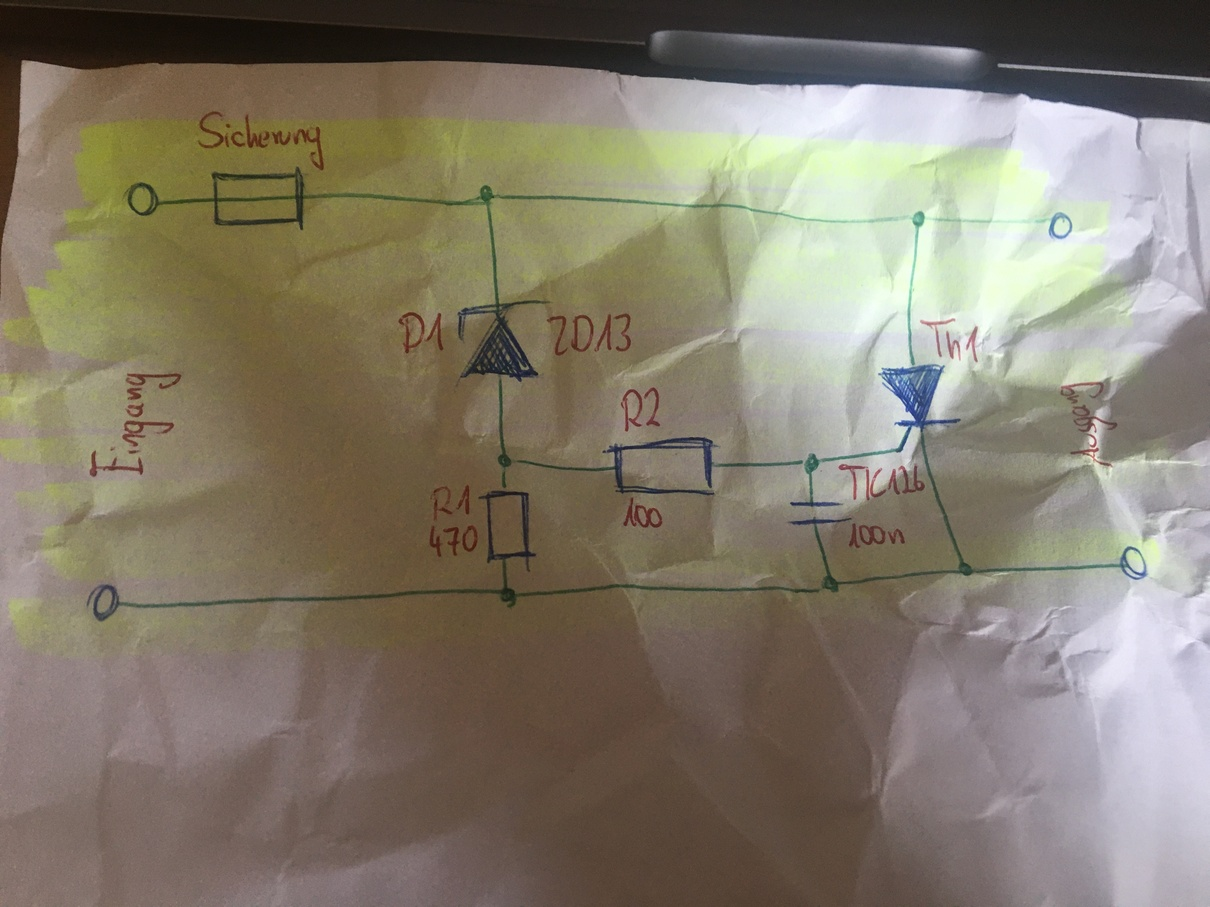capacitor.unpolarized: (786, 493, 855, 532)
diode: (452, 297, 552, 384)
fuse: (208, 166, 310, 236)
junction: (815, 571, 842, 596), (800, 450, 824, 477), (494, 451, 522, 474), (496, 584, 521, 609), (475, 182, 498, 209), (954, 559, 976, 579), (908, 208, 929, 228)
resistor: (602, 435, 719, 501), (478, 485, 537, 572)
terminal: (83, 579, 128, 625), (122, 178, 166, 219), (1115, 541, 1151, 585), (1044, 207, 1077, 241)
text: (85, 368, 185, 477), (195, 109, 328, 171), (1058, 379, 1120, 471), (546, 311, 638, 356), (837, 462, 926, 502), (917, 317, 982, 363), (397, 309, 449, 357), (617, 385, 665, 431), (424, 524, 480, 560), (427, 481, 473, 521), (845, 522, 907, 550), (616, 496, 664, 531)
thyristor: (875, 361, 963, 455)
